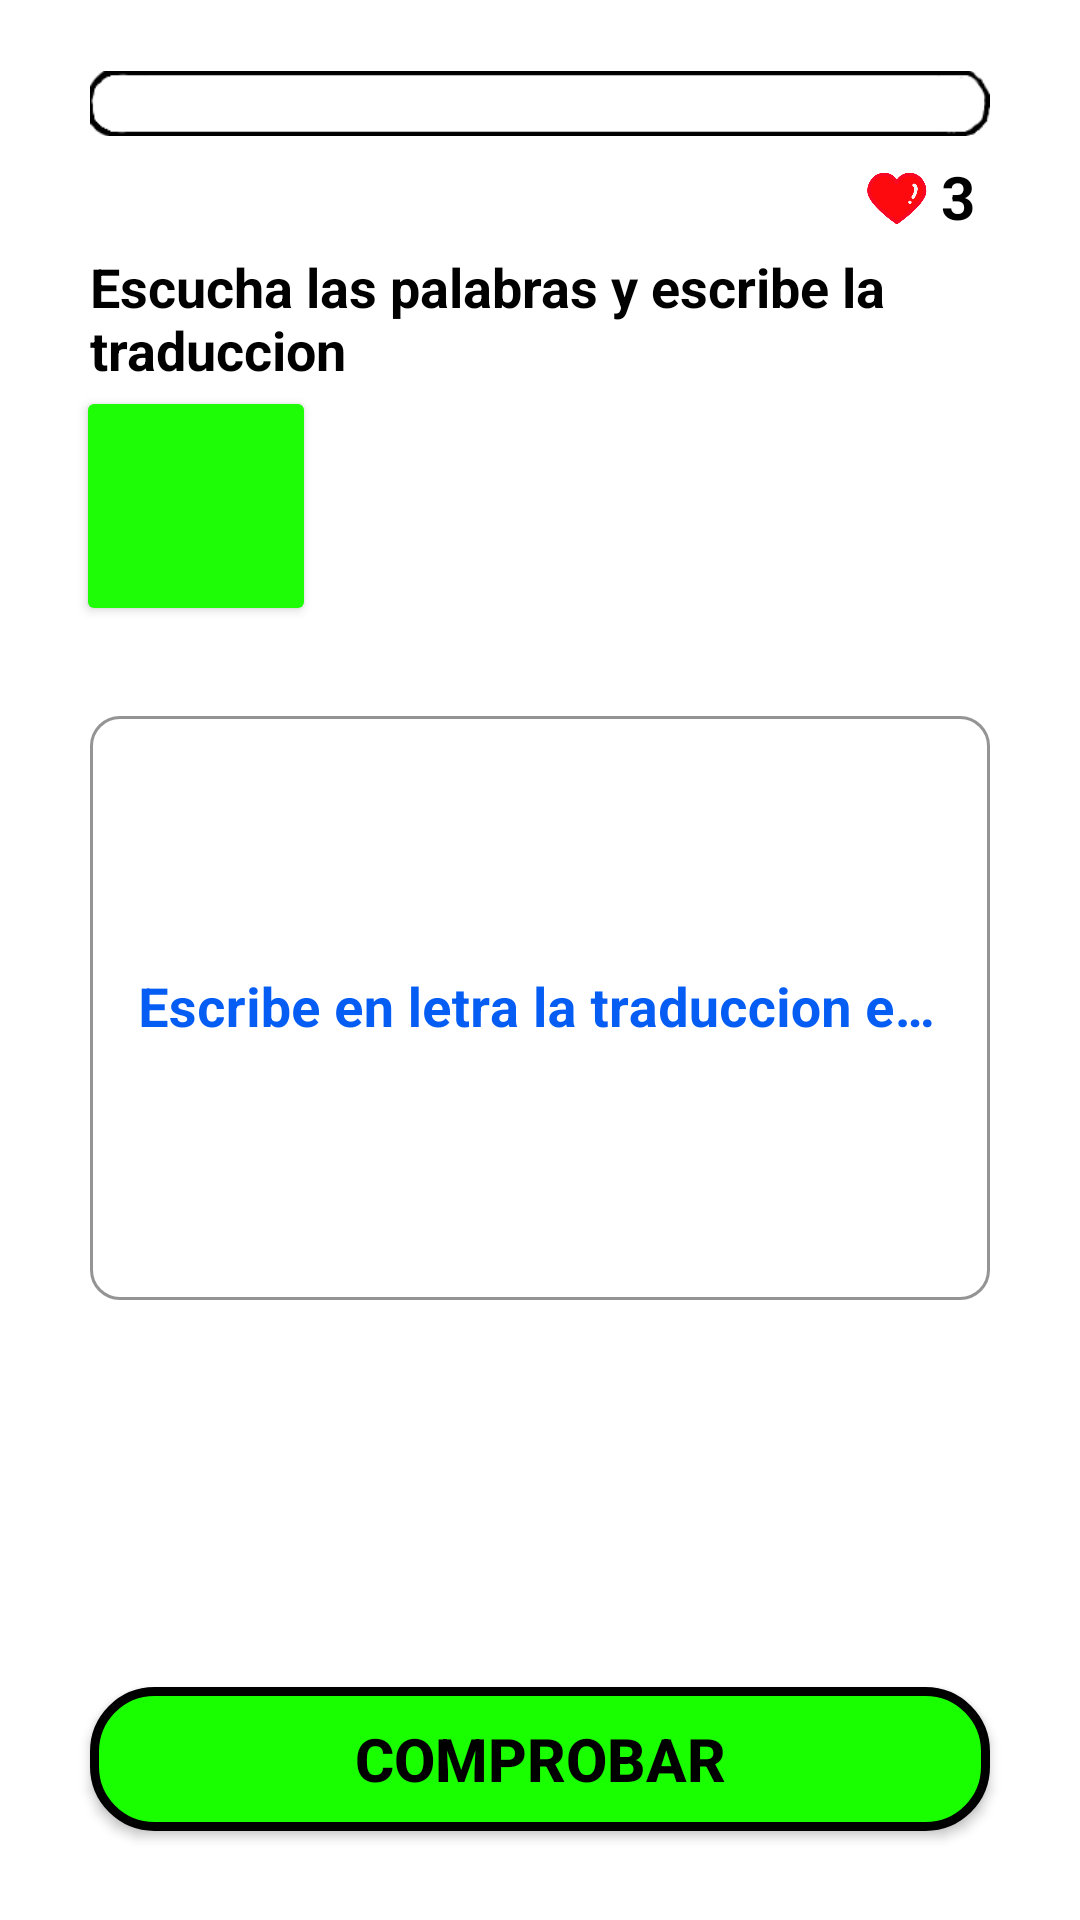

Screen size 1080w x 1920h. Icon name, then its center in pixels as (x=x, y=y):
heart: (x=897, y=198)
